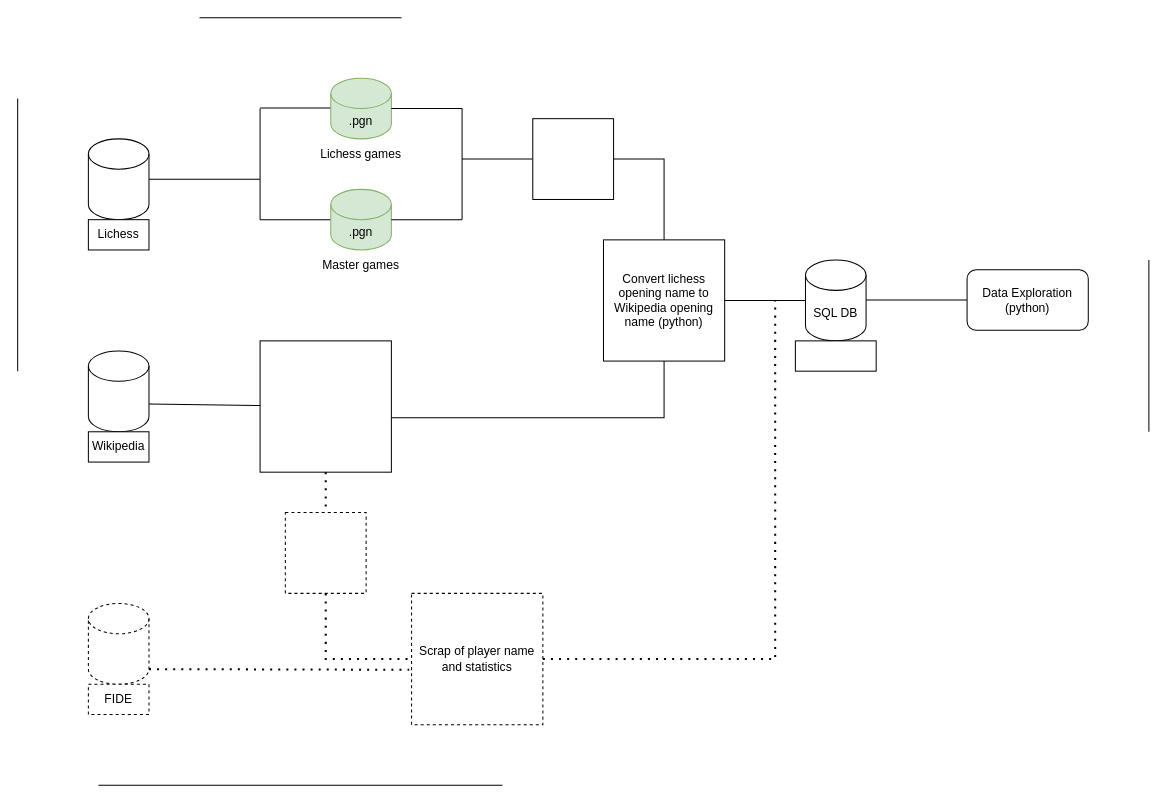
This 1168x804 diagram has some shape labels left out. Here are the shapes that lost their labels. From the top down, the centre of each, then its label:
At [573,158]: "Data cleaning and conversion to .csv (shell)".
At [835,355]: "Data Storage".
At [325,406]: "Scrap of opening summary, name and master players (python)".
At [325,552]: "Get relevant players from wikipedia".
